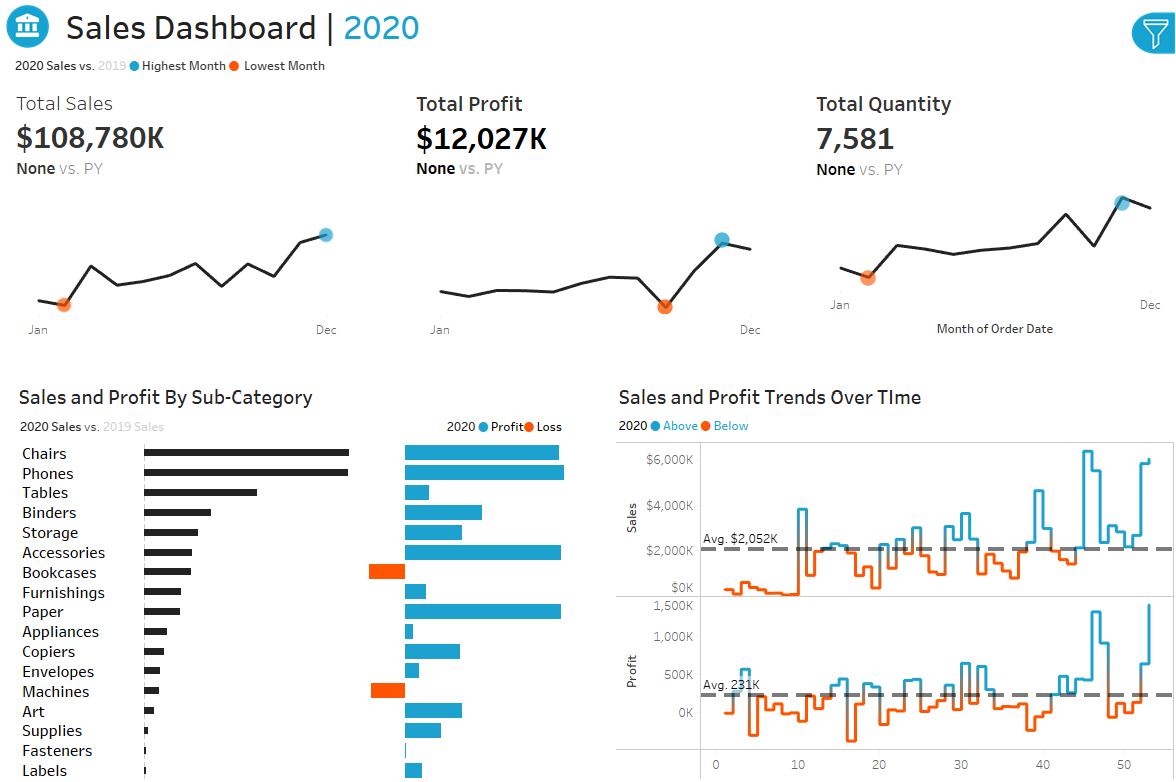

The page's visual inventory and layout, read from the dashboard file:
{"tool":"tableau","page":{"name":"Sales DashBoard","canvas":[1200,800],"ordinal":0},"visuals":[{"type":"image","param":"C:/Users/sathv/Downloads/projects/projects/sales-dashboard-project/images/Icon -","box":[0,0,64,52]},{"type":"text","box":[64,0,1136,52]},{"type":"text","box":[986,0,211,117]},{"type":"dashboard-object","box":[1125,7,66,52]},{"type":"worksheet","title":"Legend KPI","mark":"Automatic","box":[0,52,1200,26]},{"type":"worksheet","title":"KPI Sales","mark":"Automatic","rows":["Calculation_1042020384491814917"],"cols":["Order Date"],"box":[0,78,400,283]},{"type":"worksheet","title":"KPI Profit","mark":"Automatic","rows":["Calculation_1042020384518000653"],"cols":["Order Date"],"box":[400,78,400,283]},{"type":"worksheet","title":"KPI Quantity","mark":"Automatic","rows":["Min/ Max Profit (copy)_1042020384525123601"],"cols":["Order Date"],"box":[800,78,400,283]},{"type":"parameter","param":"[Parameters].[Parameter 1]","box":[986,117,211,52]},{"type":"text","box":[986,169,211,29]},{"type":"filter","title":"KPI Sales","param":"[federated.1p787dc1hgh7dx16jg9e305simpy].[none:Category:nk]","box":[986,198,211,52]},{"type":"filter","title":"KPI Sales","param":"[federated.1p787dc1hgh7dx16jg9e305simpy].[none:Sub-Category:nk]","box":[986,250,211,52]},{"type":"blank","box":[986,302,211,54]},{"type":"text","box":[986,356,211,29]},{"type":"text","box":[17,378,566,34]},{"type":"text","box":[617,378,566,34]},{"type":"filter","title":"KPI Sales","param":"[federated.1p787dc1hgh7dx16jg9e305simpy].[none:City:nk]","box":[986,385,211,52]},{"type":"worksheet","title":"Legend Sub category","mark":"Automatic","box":[17,412,428,26]},{"type":"text","box":[445,412,138,26]},{"type":"text","box":[617,412,566,25]},{"type":"worksheet","title":"Weekly Trends","mark":"Automatic","rows":["Calculation_1042020384485113856","Calculation_1042020384517173259"],"cols":["Order Date"],"box":[617,437,566,346]},{"type":"filter","title":"KPI Sales","param":"[federated.1p787dc1hgh7dx16jg9e305simpy].[none:State:nk]","box":[986,437,211,52]},{"type":"worksheet","title":"Sub Category Comparision","mark":"Bar","rows":["Sub-Category","Calculation_205476754797944832"],"cols":["CY Sales (copy)_1042020384485576705","Calculation_1042020384485113856","Calculation_1042020384517173259"],"box":[17,438,566,345]},{"type":"filter","title":"KPI Sales","param":"[federated.1p787dc1hgh7dx16jg9e305simpy].[none:Region:nk]","box":[986,489,211,52]}]}

Visuals, with their boxes in screenshot pixels (x1, y1, x2, y2), scaled from the page's 1200x800 canvas onto the 1176x782 screenshot:
image: 0:0:63:51
text: 63:0:1175:51
text: 966:0:1173:114
dashboard-object: 1102:7:1167:58
"Legend KPI" worksheet: 0:51:1175:76
"KPI Sales" worksheet: 0:76:392:353
"KPI Profit" worksheet: 392:76:784:353
"KPI Quantity" worksheet: 784:76:1175:353
parameter: 966:114:1173:165
text: 966:165:1173:194
"KPI Sales" filter: 966:194:1173:244
"KPI Sales" filter: 966:244:1173:295
blank: 966:295:1173:348
text: 966:348:1173:376
text: 17:369:571:403
text: 605:369:1159:403
"KPI Sales" filter: 966:376:1173:427
"Legend Sub category" worksheet: 17:403:436:428
text: 436:403:571:428
text: 605:403:1159:427
"Weekly Trends" worksheet: 605:427:1159:765
"KPI Sales" filter: 966:427:1173:478
"Sub Category Comparision" worksheet (Bar marks): 17:428:571:765
"KPI Sales" filter: 966:478:1173:529
